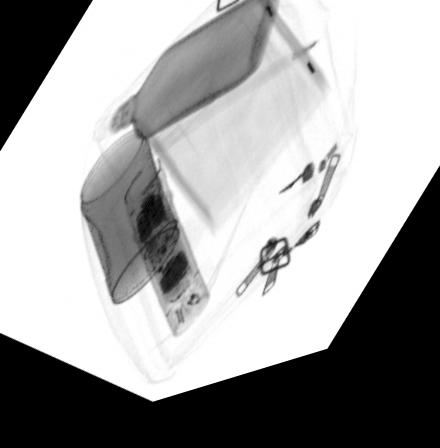Baton: (121, 166, 210, 353)
